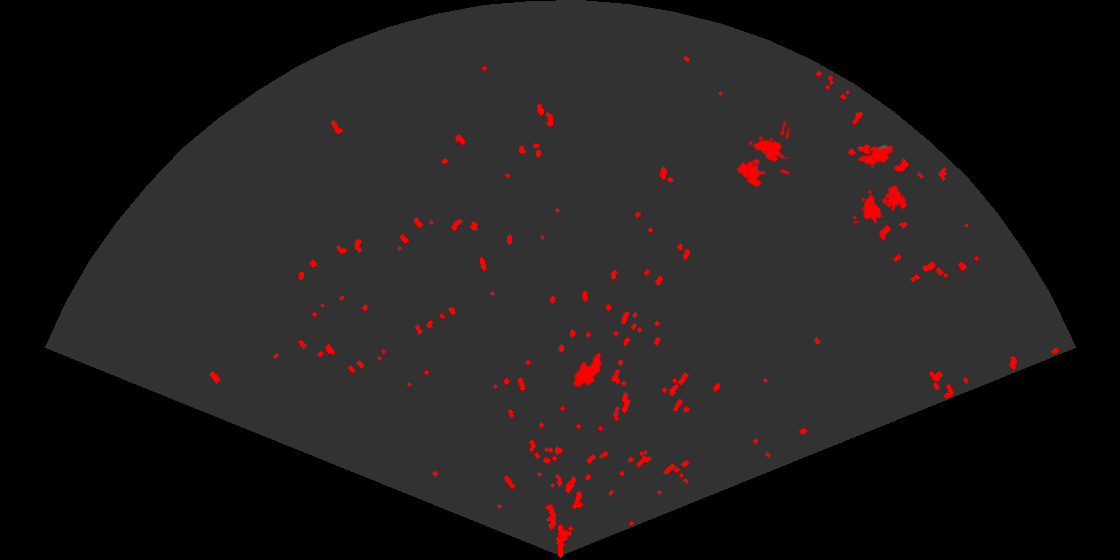AUV: (571, 351, 603, 389), (856, 143, 895, 167)
cage: (735, 121, 789, 189), (853, 184, 909, 223)
